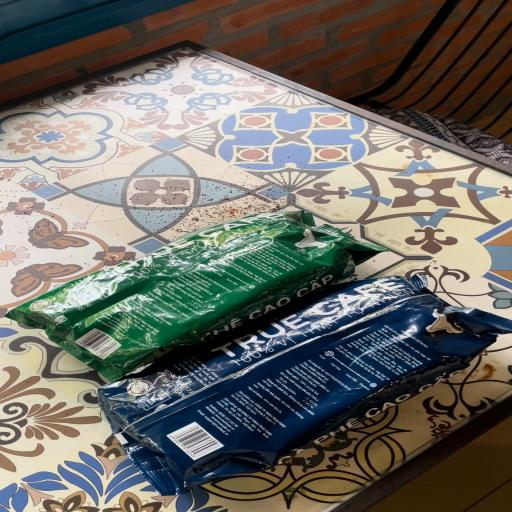cafe_hat: (98, 274, 512, 494)
cafe_xay: (7, 211, 386, 380)
